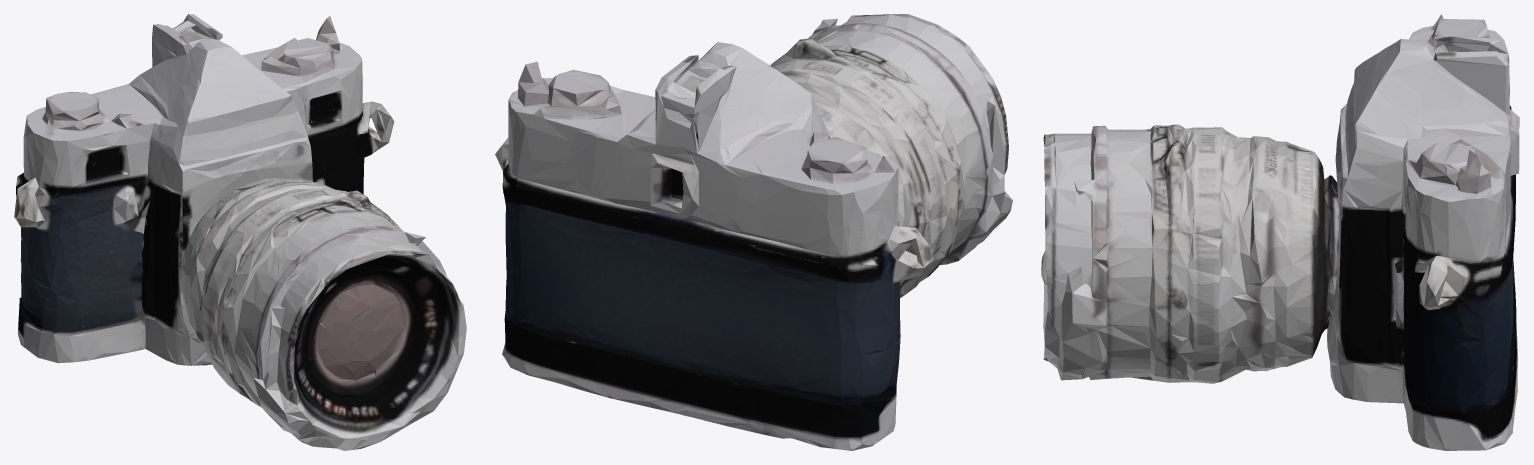
The model's file is bj89_slr_camera.glb.
3 views of the same model, side by side, from view 1: azimuth 30°, elevation 25°; view 2: azimuth 150°, elevation 25°; view 3: azimuth 270°, elevation 25° (orthographic). The views are drawn at different scales.
Parts seen in each view (by area): view 1: bj89_slr_camera_tex; view 2: bj89_slr_camera_tex; view 3: bj89_slr_camera_tex.
Part boxes in pixels (x1=…): bj89_slr_camera_tex: x1=14, y1=14, x2=466, y2=450; bj89_slr_camera_tex: x1=495, y1=14, x2=1012, y2=450; bj89_slr_camera_tex: x1=1041, y1=14, x2=1519, y2=450.
Size of the model in its own units: 0.22 by 0.1616 by 0.2133.
Materials: 1 (1 with a texture image).
